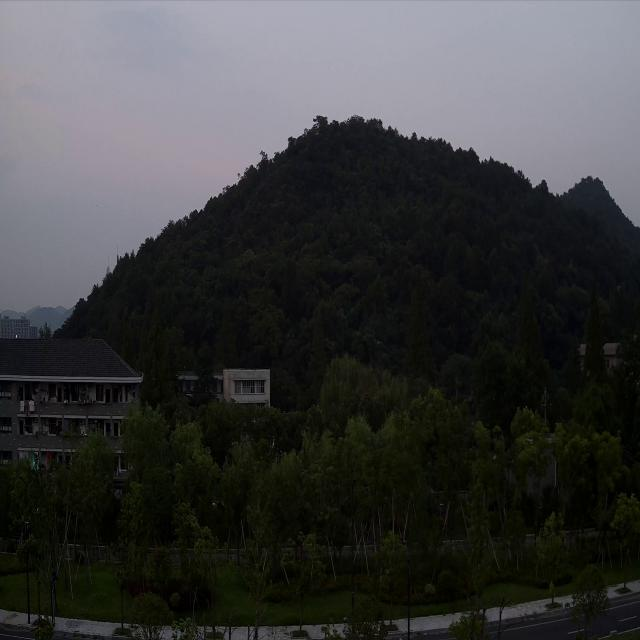UAV: (376, 338, 383, 344)
